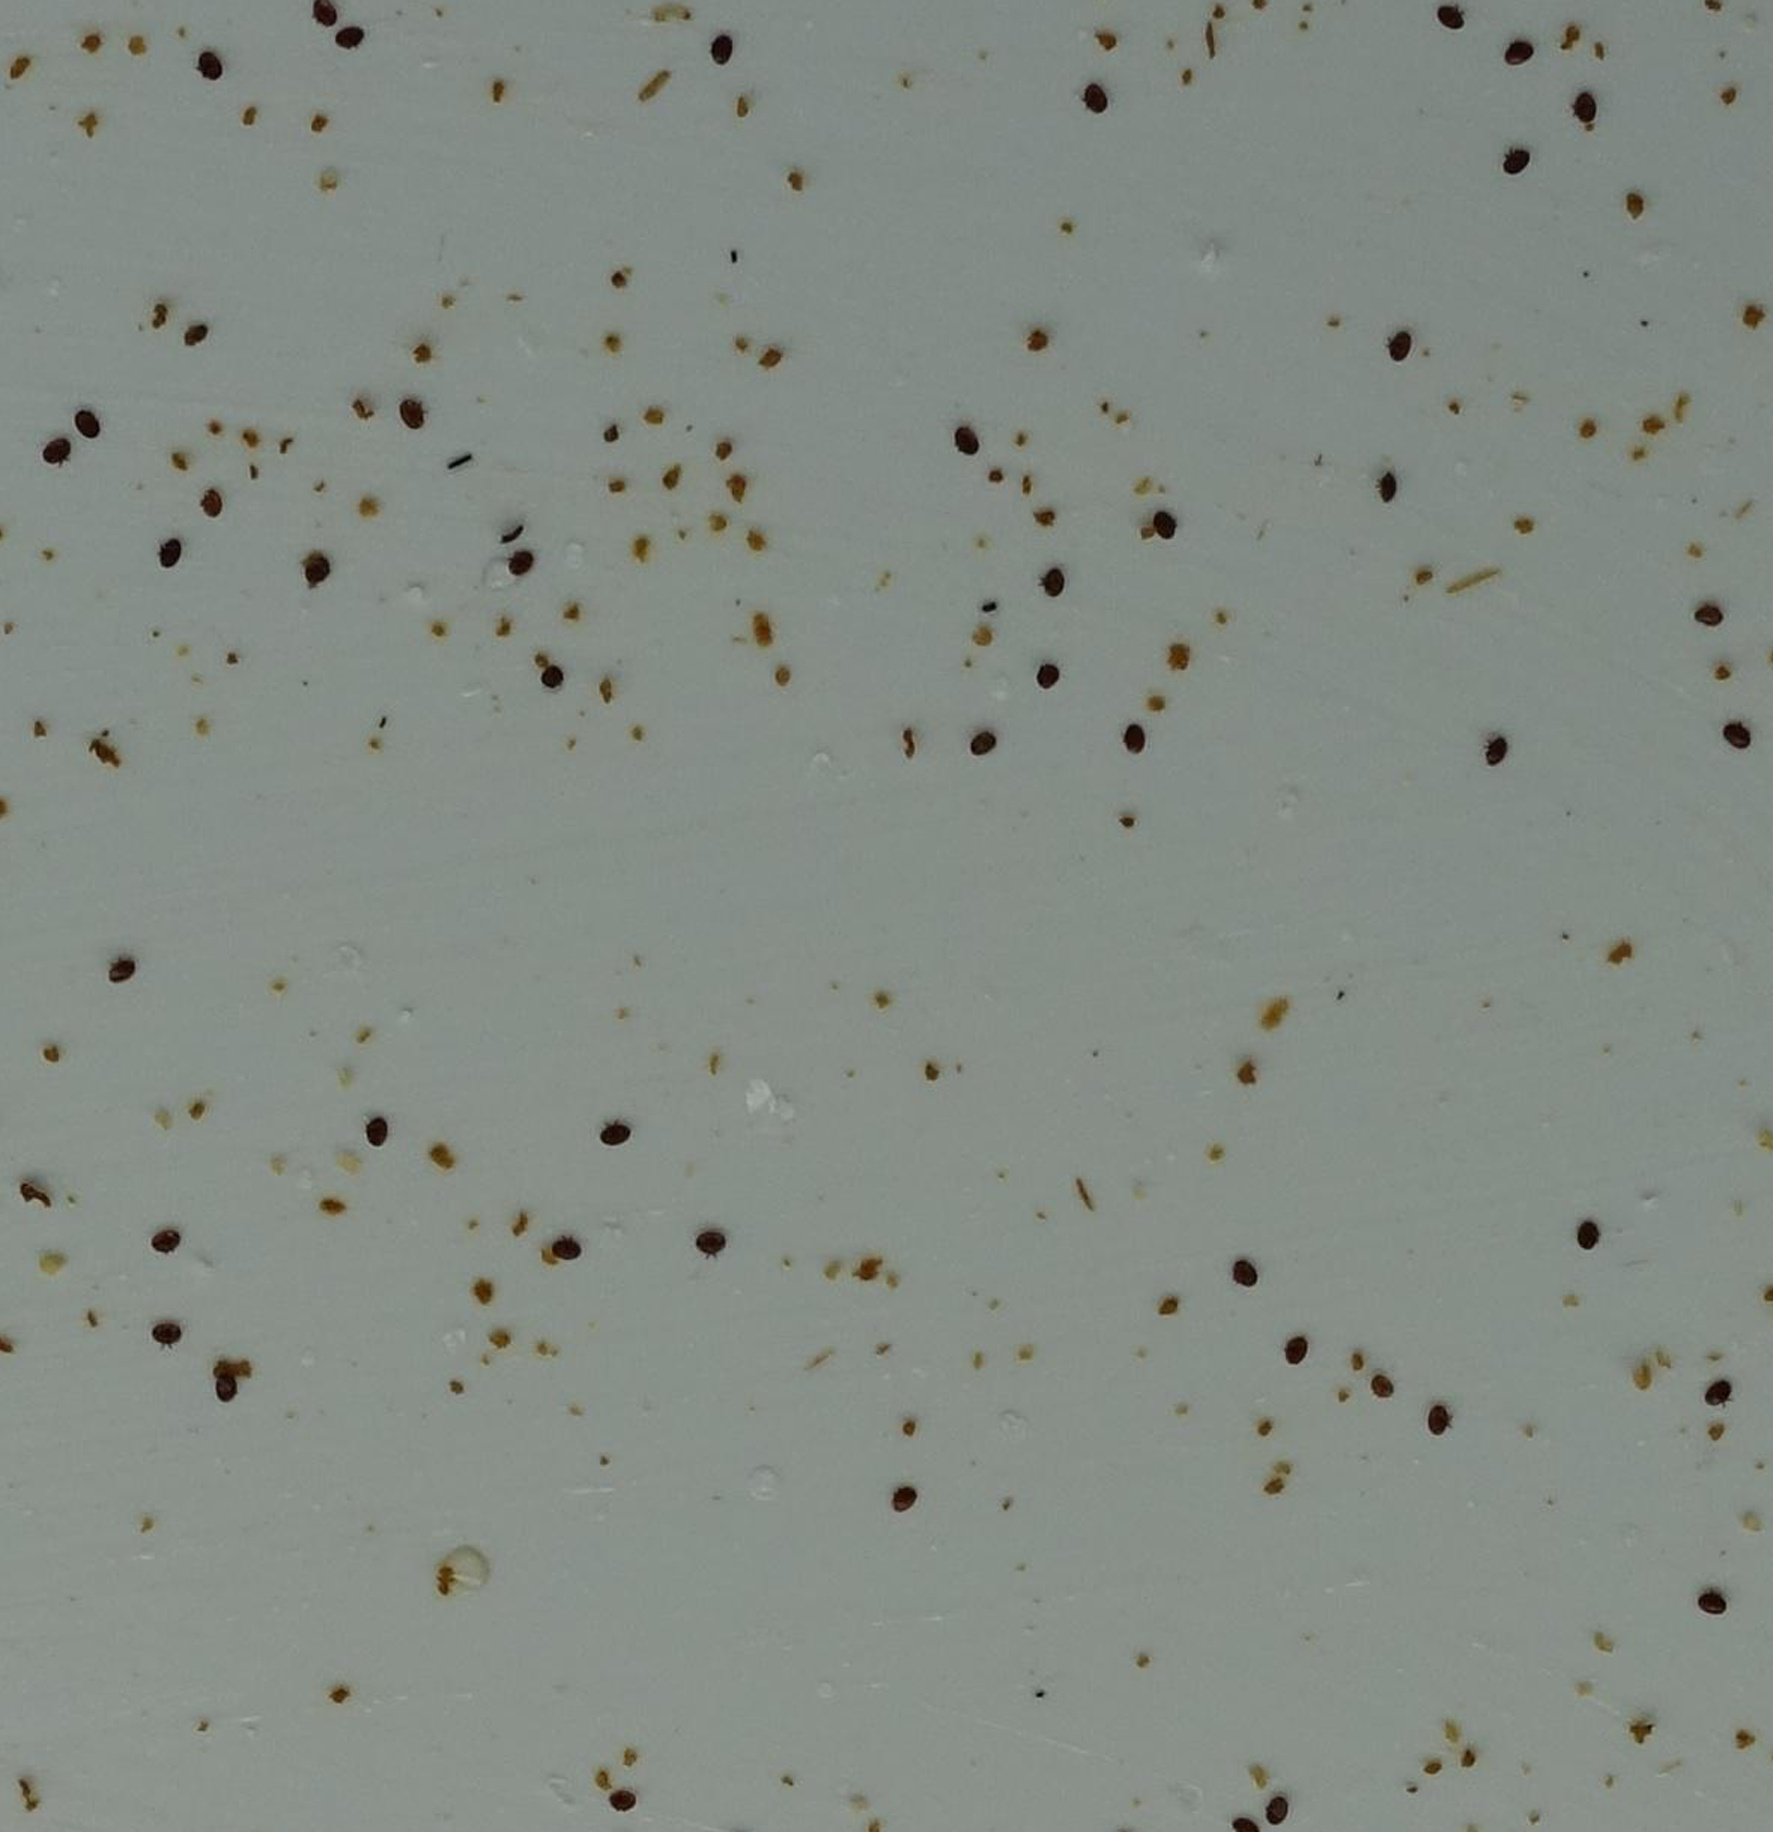Varroa: (491, 510, 533, 555), (190, 47, 222, 88), (1227, 1263, 1263, 1299), (360, 1107, 394, 1145), (155, 540, 190, 574), (1570, 93, 1603, 129), (1694, 1583, 1727, 1619), (1505, 38, 1537, 72), (150, 1318, 183, 1353), (1274, 1341, 1307, 1376), (1075, 90, 1109, 123), (1575, 1219, 1608, 1251), (1374, 473, 1407, 505), (536, 658, 569, 690), (1479, 730, 1511, 762), (1263, 1793, 1295, 1825), (1721, 716, 1752, 751), (888, 1484, 919, 1516), (707, 34, 738, 67), (550, 1232, 581, 1264), (334, 20, 365, 52), (397, 399, 429, 432), (1034, 662, 1065, 695), (1438, 3, 1469, 36), (1120, 721, 1151, 754), (1503, 146, 1534, 177), (1699, 1376, 1730, 1407), (1371, 1371, 1402, 1402), (39, 438, 70, 469), (599, 1120, 630, 1152), (299, 555, 330, 586), (105, 949, 134, 981), (154, 1230, 183, 1263), (507, 548, 536, 581), (1150, 509, 1179, 540), (1426, 1407, 1456, 1438), (607, 1786, 636, 1817), (1696, 600, 1726, 631), (1040, 568, 1070, 599), (198, 484, 227, 515), (970, 733, 999, 764), (75, 406, 105, 437), (214, 1372, 244, 1402), (697, 1227, 726, 1256), (1384, 329, 1412, 360), (950, 427, 976, 455)
